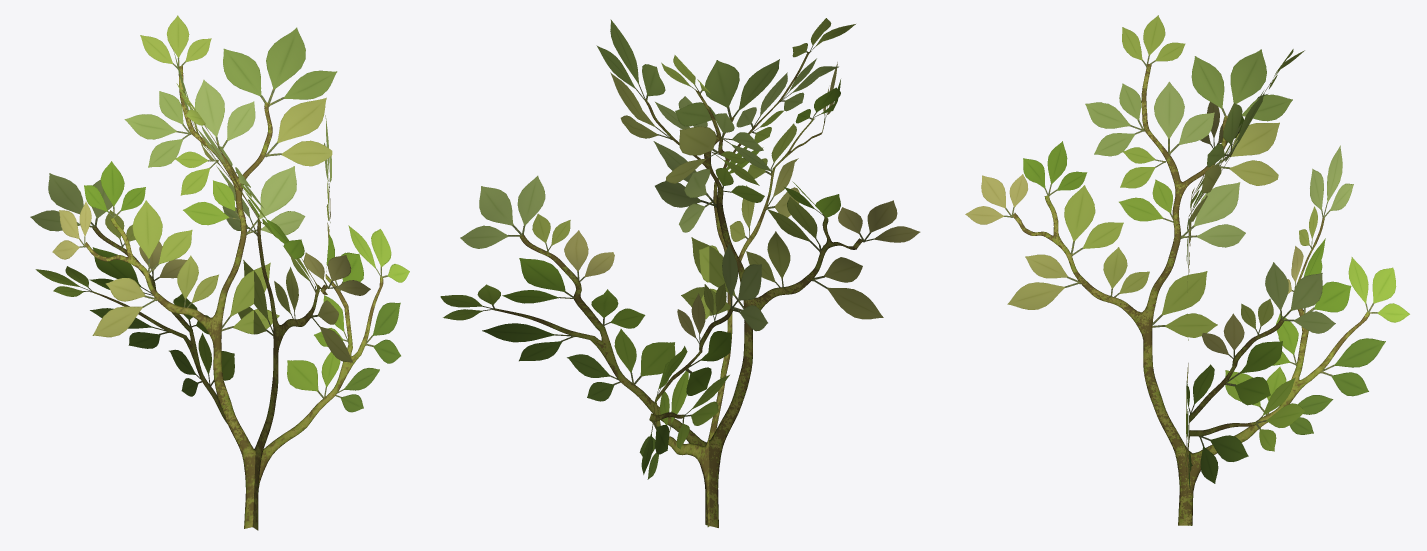
Rendered from 5_Weed_7 .fbx.
3 views of the same model, side by side, from view 1: azimuth 30°, elevation 25°; view 2: azimuth 150°, elevation 25°; view 3: azimuth 270°, elevation 25° (orthographic). The views are drawn at different scales.
Parts seen in each view (by area): view 1: Weed 1.001; view 2: Weed 1.001; view 3: Weed 1.001.
Part boxes in pixels (x1=…): Weed 1.001: x1=30, y1=15, x2=409, y2=530; Weed 1.001: x1=440, y1=18, x2=920, y2=527; Weed 1.001: x1=965, y1=15, x2=1409, y2=525.
Size of the model in its own units: 85.98 by 97.29 by 85.04.
